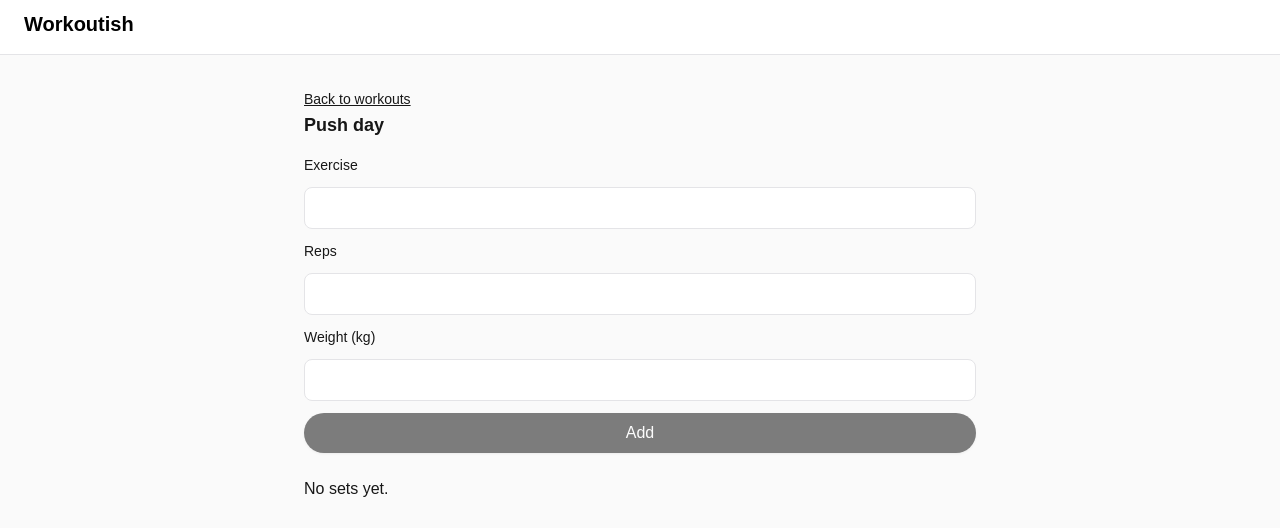
Scenario: add from empty makes the new exercise visible and removes the empty message
Type "Deadlift" into the field labelled "Exercise" at [640, 208], box [304,187,976,229]
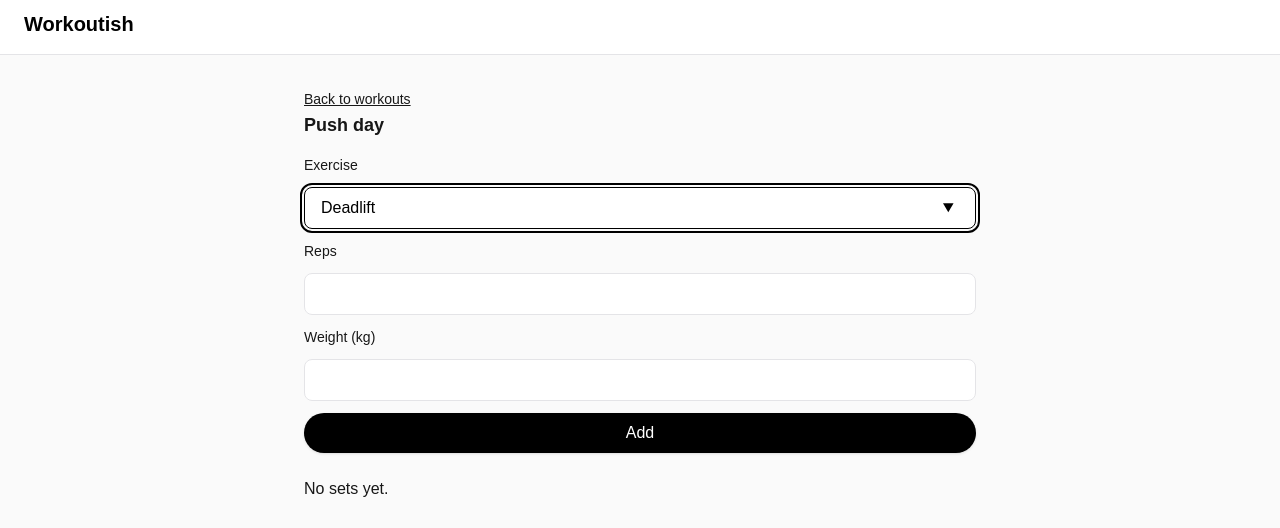
Type "3" into the number field labelled "Reps" at [640, 294], box [304,273,976,315]
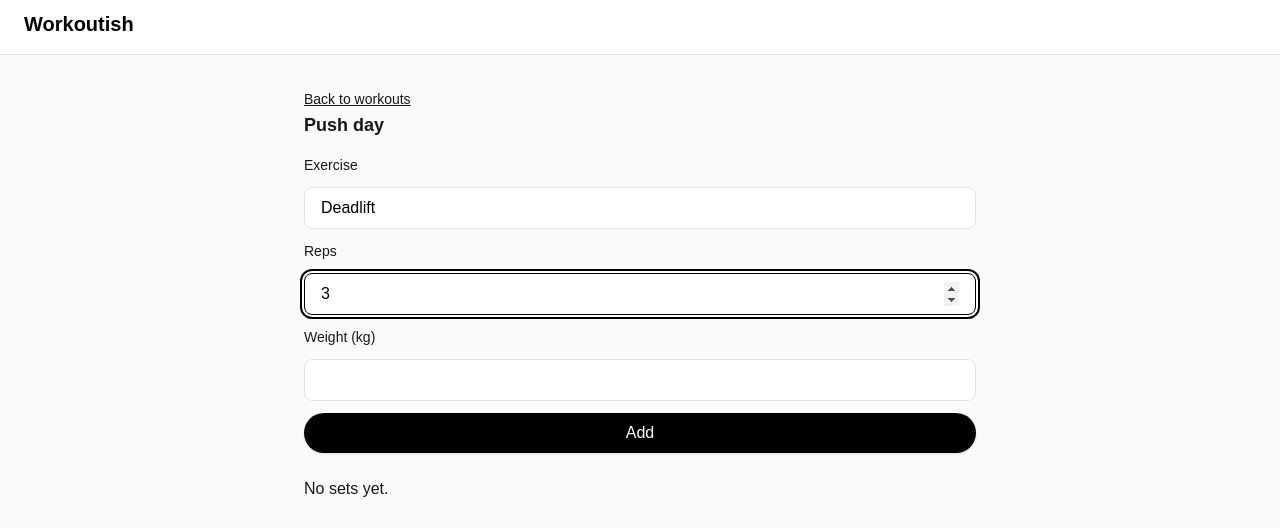
Type "120" into the number field labelled "Weight (kg)" at [640, 380], box [304,359,976,401]
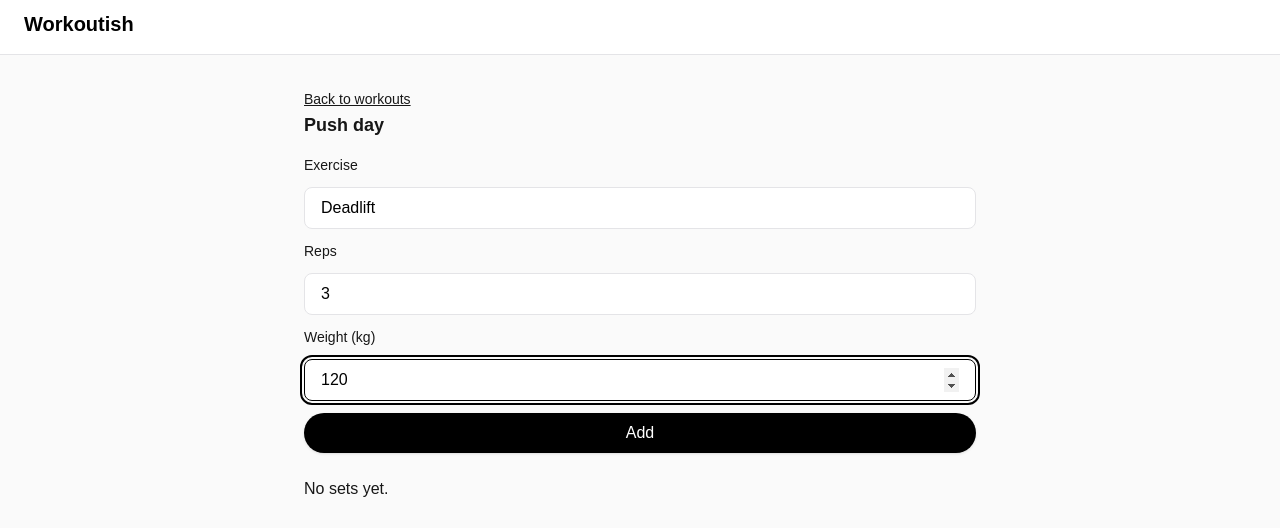
Click the button "Add" at [640, 433], box [304,413,976,453]
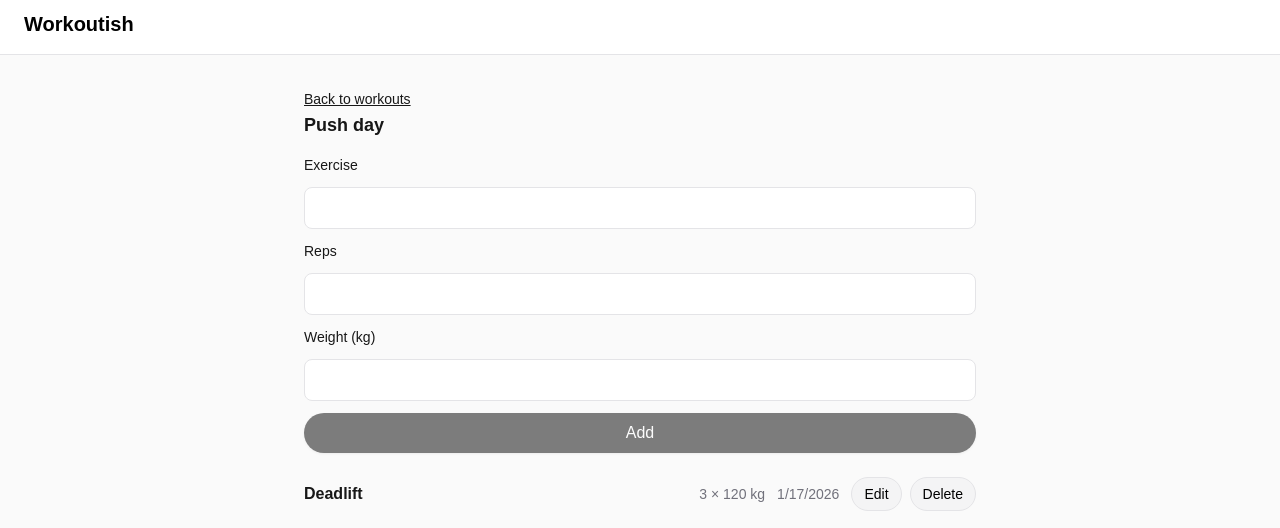
Now the text "Deadlift" is shown, box [304,485,363,502]
